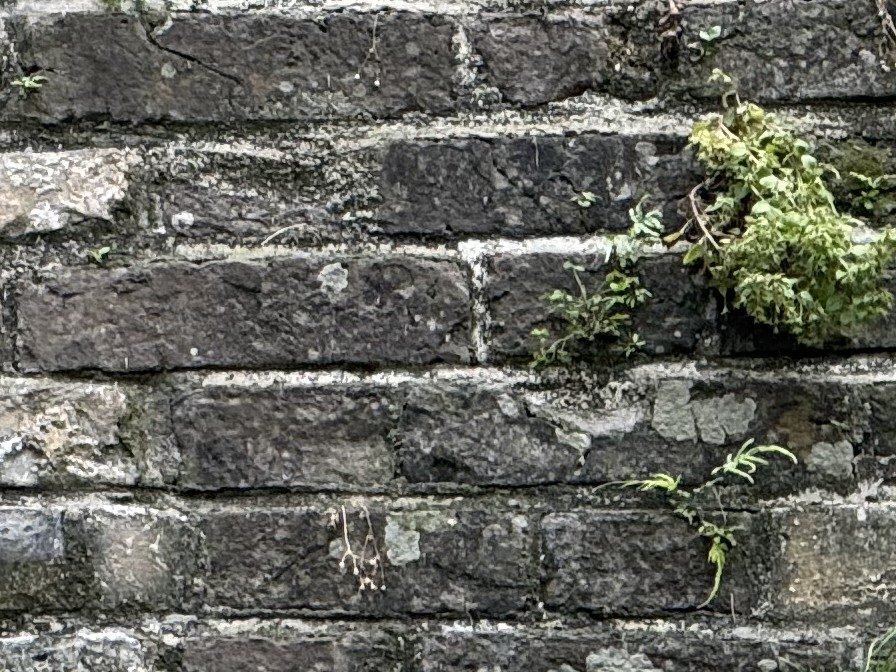vegetation: (672, 99, 893, 344), (608, 437, 796, 611), (524, 198, 671, 370), (860, 608, 896, 672)
